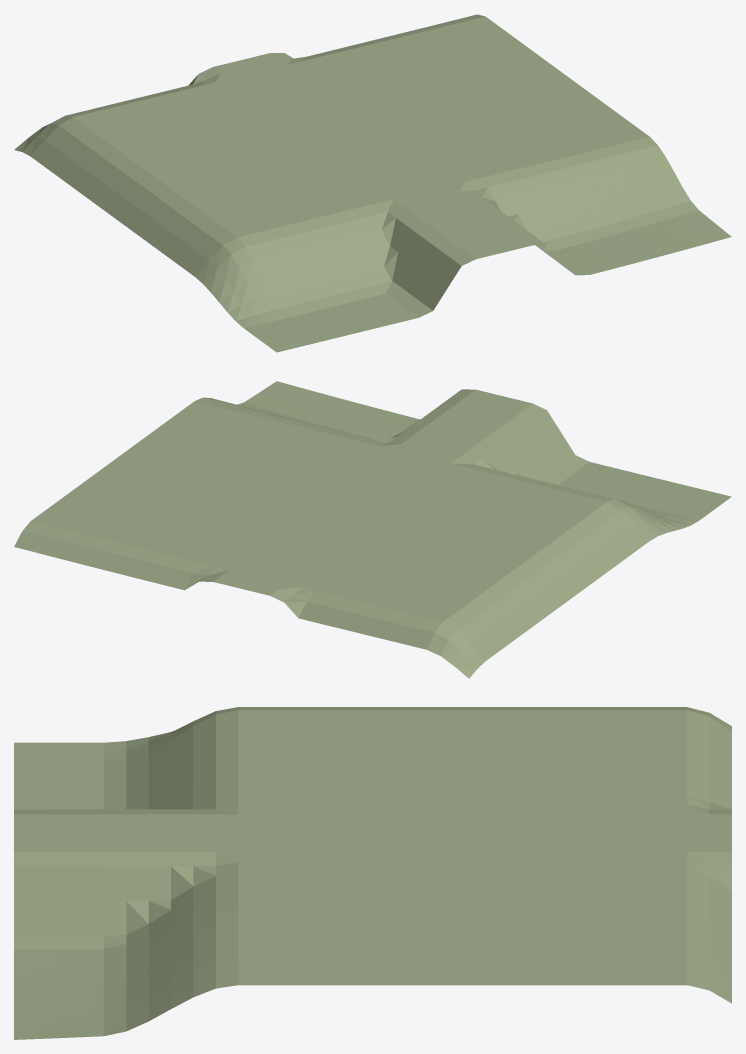
File: railway-1-2.glb
3 views of the same model, one above another, from view 1: azimuth 30°, elevation 25°; view 2: azimuth 150°, elevation 25°; view 3: azimuth 270°, elevation 25° (orthographic). The views are drawn at different scales.
Parts seen in each view (by area): view 1: railway-1-2; view 2: railway-1-2; view 3: railway-1-2.
Boxes of the visible parts, box(x1,y1,x2,y2) form: railway-1-2: box(14, 14, 731, 352); railway-1-2: box(14, 381, 731, 678); railway-1-2: box(14, 707, 731, 1039).
Size of the model in its own units: 128 by 12 by 128.
